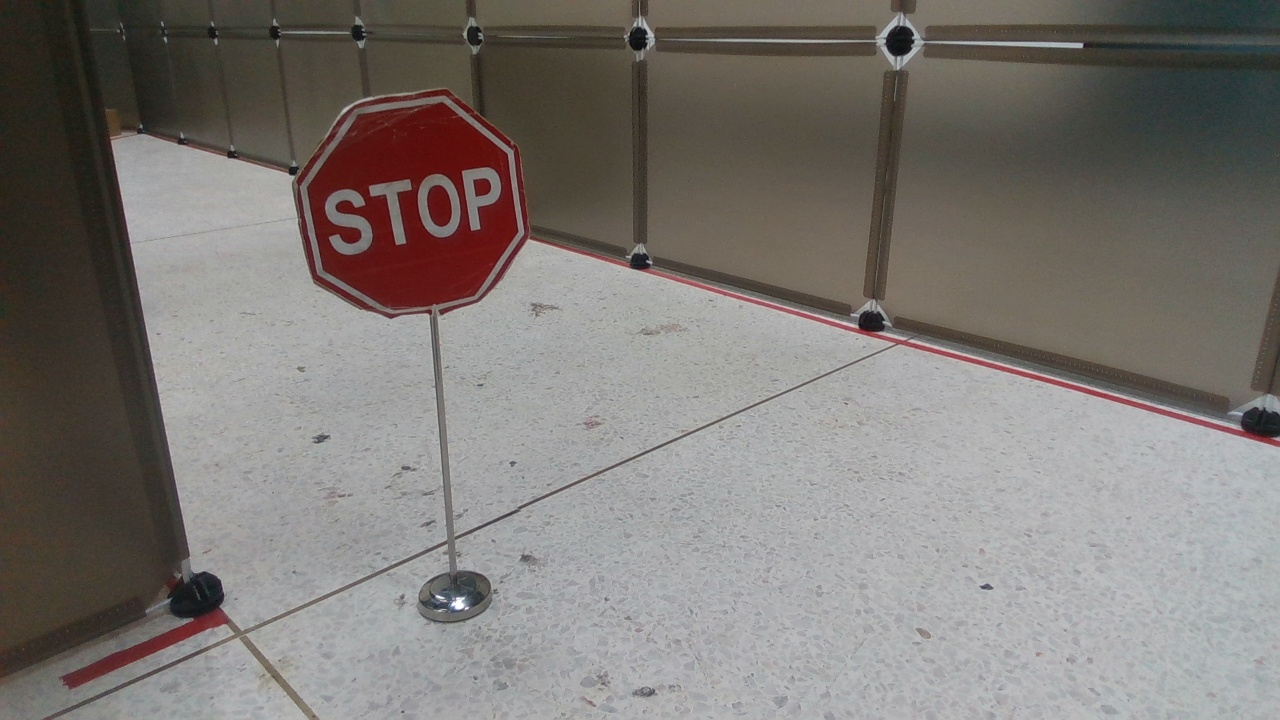Stop sign: (291, 84, 528, 316)
